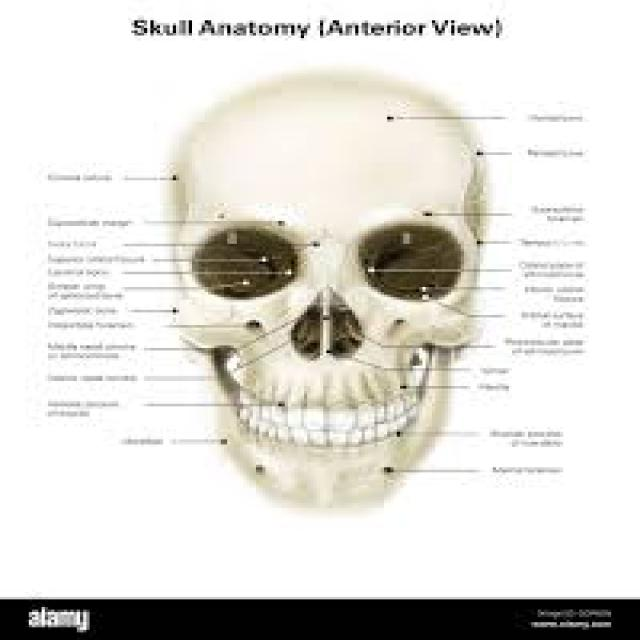skull: (155, 53, 514, 521)
